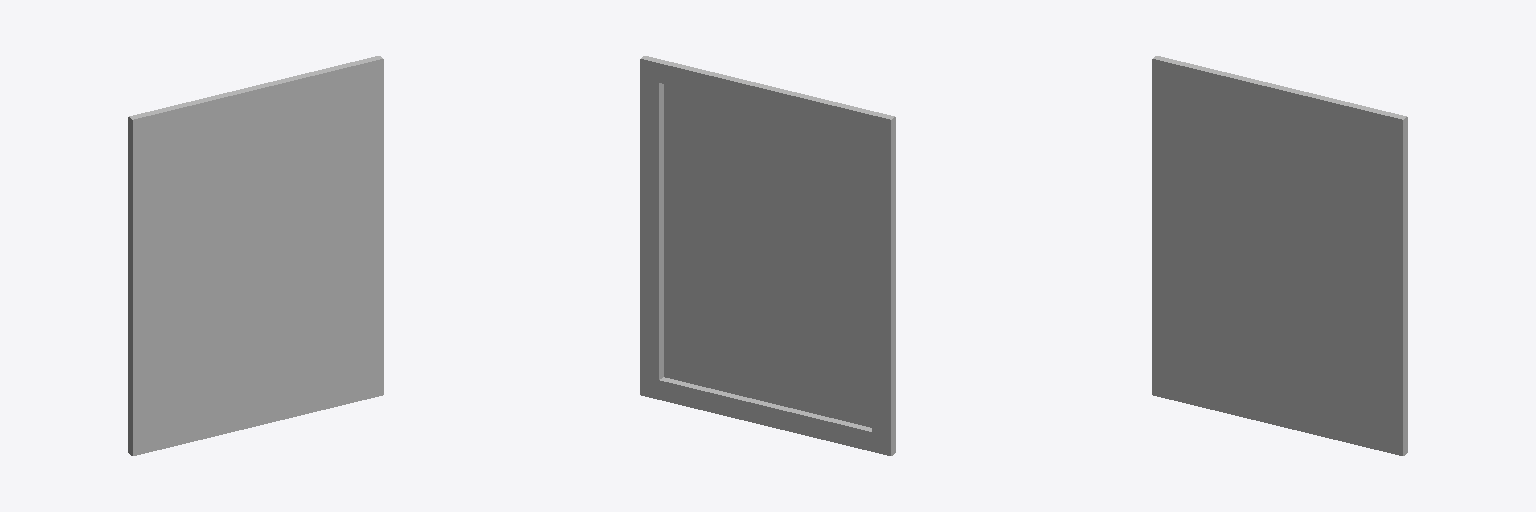
The model's file is Painting_03.obj.
3 views of the same model, side by side, from view 1: azimuth 30°, elevation 25°; view 2: azimuth 150°, elevation 25°; view 3: azimuth 330°, elevation 25° (orthographic).
Parts seen in each view (by area): view 1: object_1, object_2; view 2: object_1, object_2; view 3: object_1, object_2.
Boxes of the visible parts, x1,y1,x2,y2 form: object_1: [152, 83, 364, 431]; object_2: [128, 56, 383, 455]; object_1: [662, 84, 871, 429]; object_2: [640, 56, 895, 455]; object_1: [1171, 83, 1383, 431]; object_2: [1152, 56, 1407, 455].
Bounding box in the file's own units: 66.58 × 85.44 × 2.